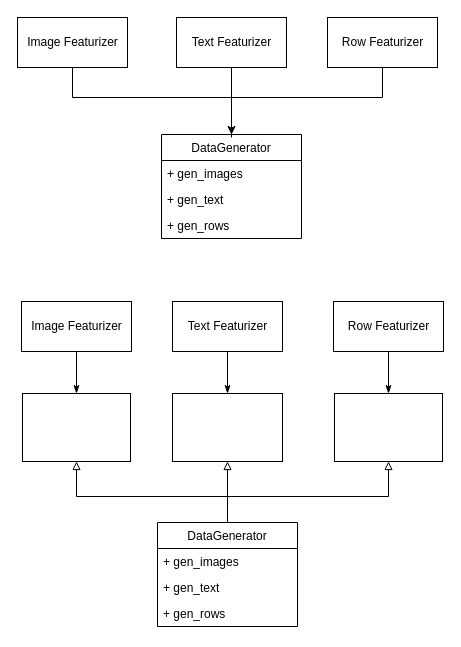
Some shapes in this 461 by 647 pixel diagram are drawn without their labels. Here are the shapes that lost their labels. From the top down, the centre of each, then its label:
At (x=76, y=427): "<<Interface>> ImageGenerator + gen_images".
At (x=227, y=427): "<<Interface>> TextGenerator + gen_text".
At (x=388, y=427): "<<Interface>> RowGenerator + gen_rows".
